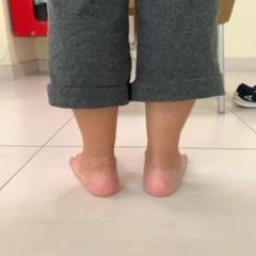Back View -Both Feet-: (58, 122, 200, 207)
